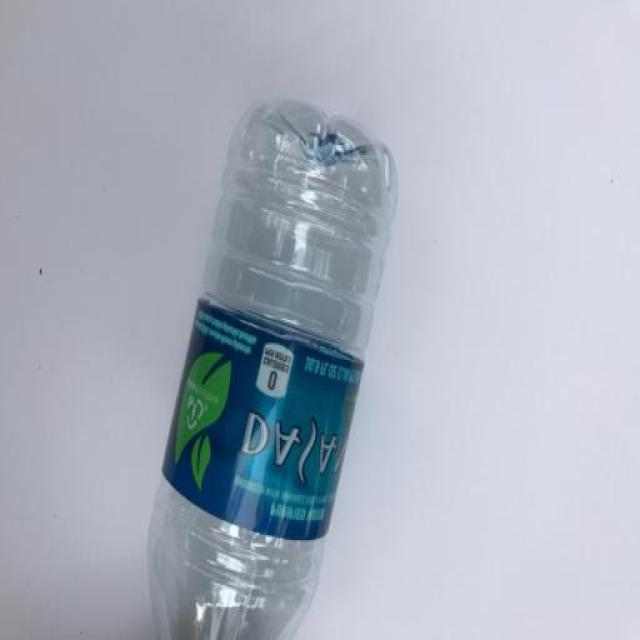Plastic: (145, 98, 400, 640)
